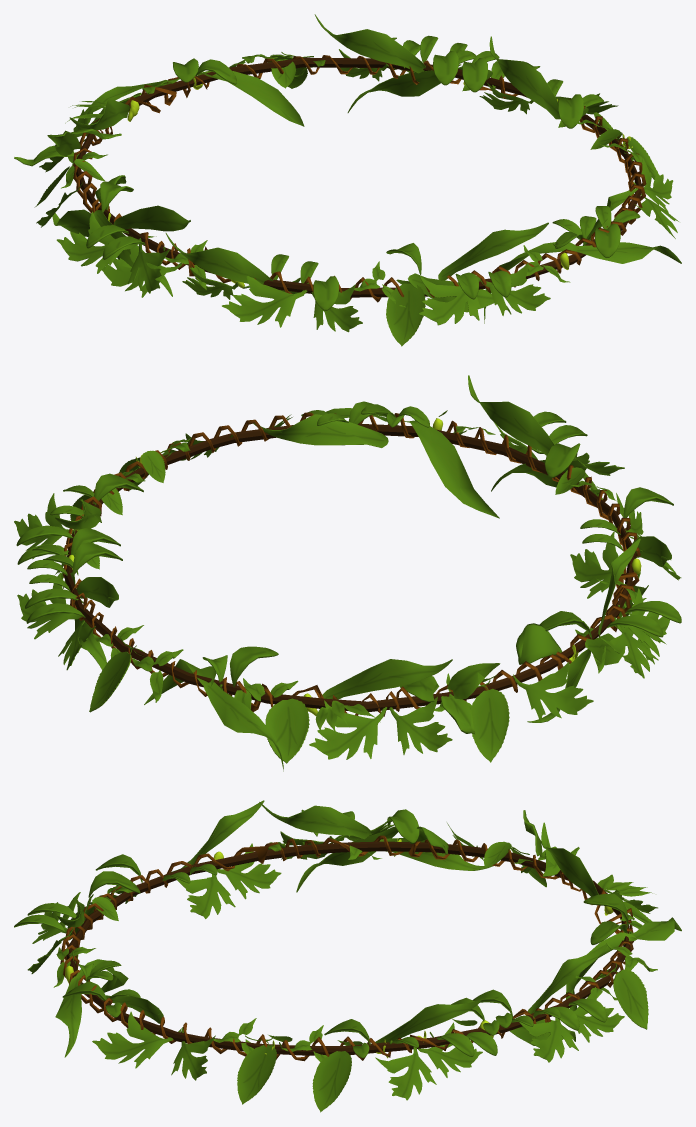
Rendered from huaquan.fbx.
3 views of the same model, one above another, from view 1: azimuth 30°, elevation 25°; view 2: azimuth 150°, elevation 25°; view 3: azimuth 270°, elevation 25° (orthographic). The views are drawn at different scales.
Parts seen in each view (by area): view 1: polySurface95, polySurface79, polySurface24, polySurface40; view 2: polySurface95, polySurface24, polySurface79; view 3: polySurface95, polySurface24, polySurface79.
Part boxes in pixels (x1,y1,x2,y2): polySurface95: (14, 14, 681, 346); polySurface79: (73, 55, 646, 302); polySurface24: (74, 57, 641, 297); polySurface40: (108, 77, 632, 288); polySurface95: (14, 375, 681, 771); polySurface24: (64, 423, 635, 711); polySurface79: (63, 412, 640, 716); polySurface95: (14, 800, 681, 1112); polySurface24: (66, 841, 630, 1055); polySurface79: (60, 835, 633, 1061).
Bounding box in the file's own units: 56.97 × 10.34 × 59.61.
